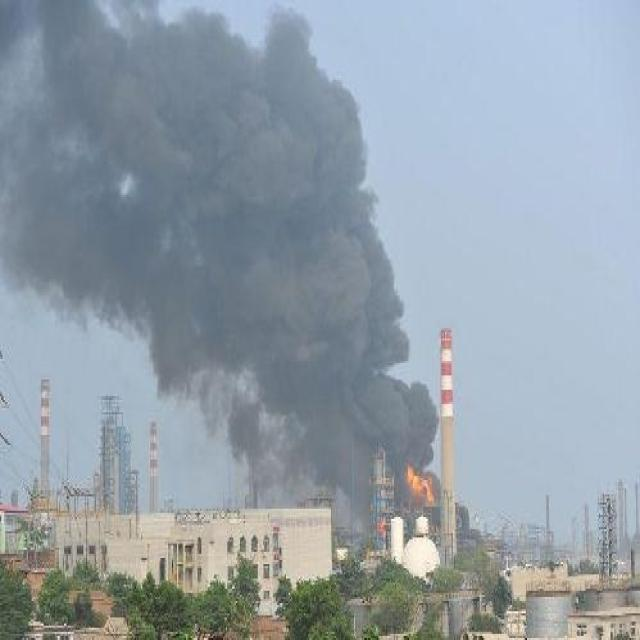Fire: (403, 462, 435, 506)
Smoke: (1, 2, 440, 529)
